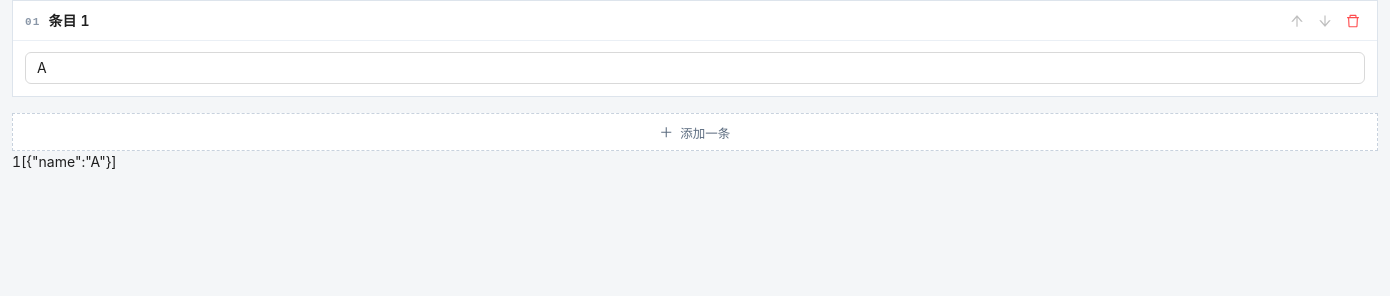
it: ArrayEditor › maxItems 限制最多条数（添加按钮禁用并提示上限）
Click the button "添加一条" at (695, 132), box x1=12 y1=113 x2=1378 y2=151
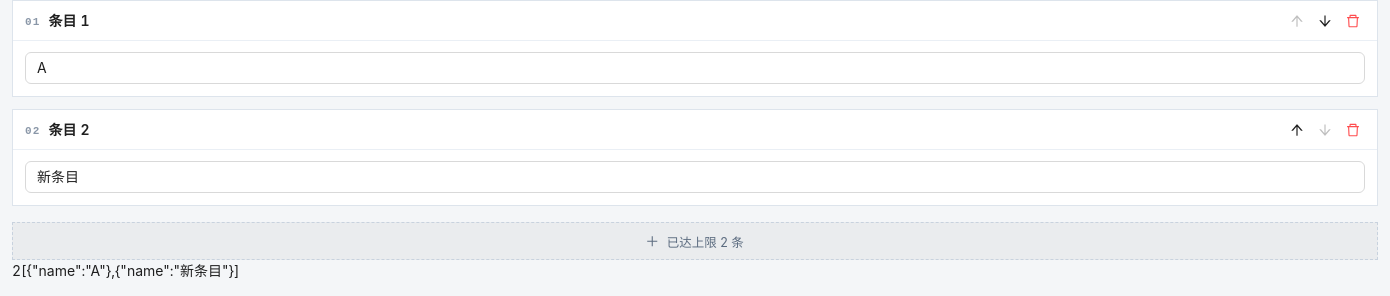
Expected: the text with test id "count" reads "2", x1=12 y1=262 x2=21 y2=279
Expected: the button "已达上限 2 条" is disabled, x1=12 y1=222 x2=1378 y2=260
